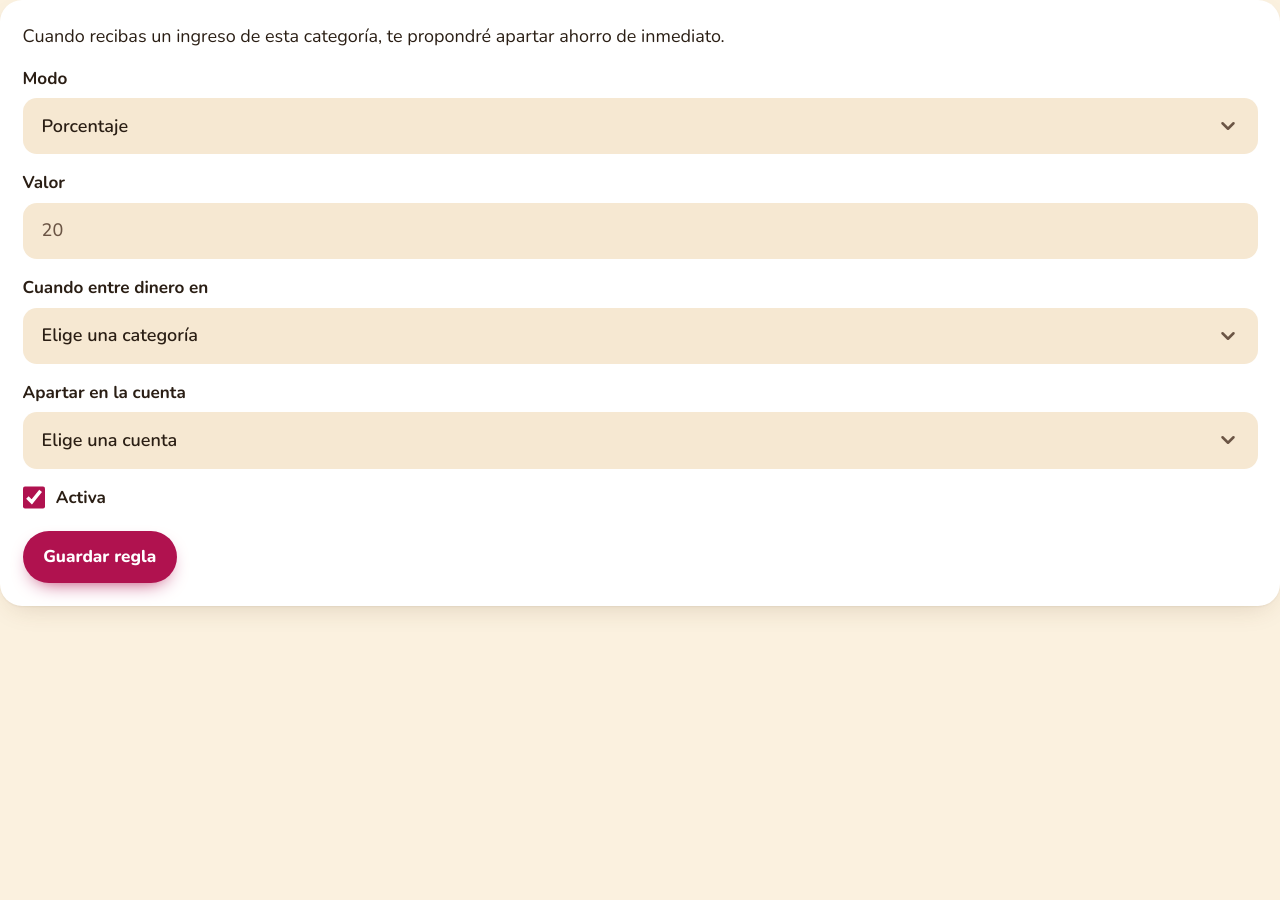
SavingsRuleForm › validates the percentage
Type "101" into the field labelled "Valor" at (640, 231), box x1=22 y1=203 x2=1258 y2=259
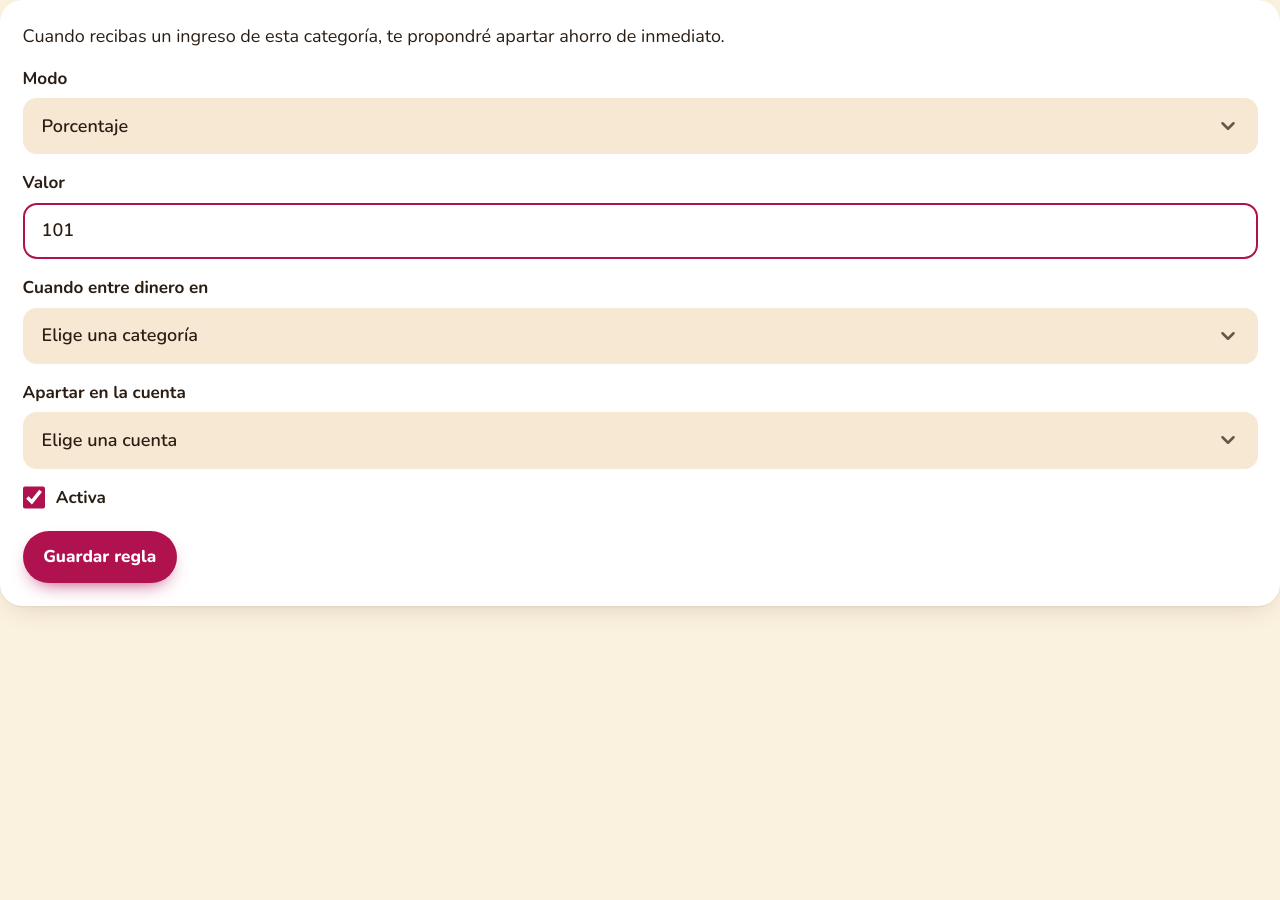
Select "Salario" in the dropdown labelled "Cuando entre dinero en" at (640, 336), box x1=22 y1=308 x2=1258 y2=364
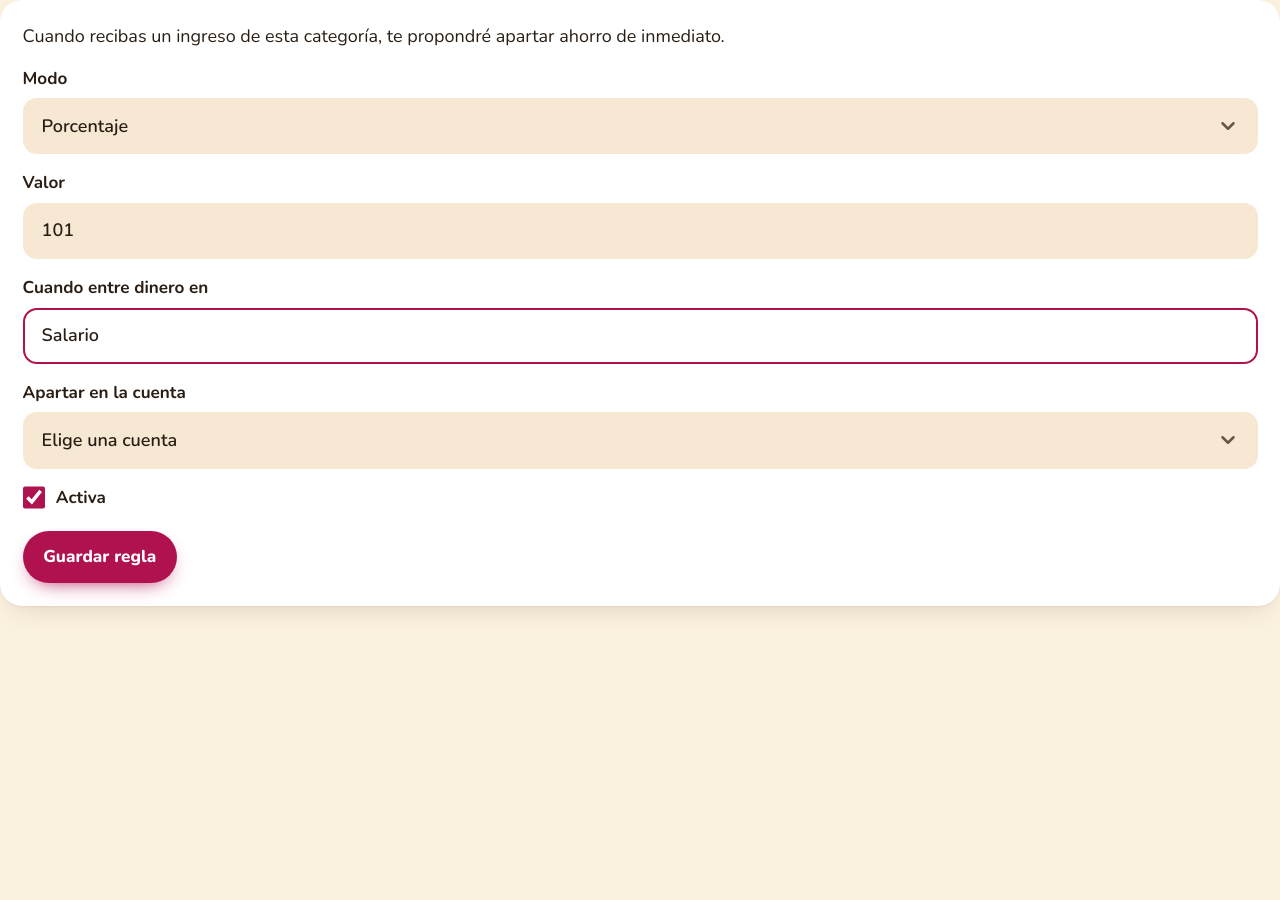
Select "Ahorro" in the dropdown labelled "Apartar en la cuenta" at (640, 440), box x1=22 y1=412 x2=1258 y2=469
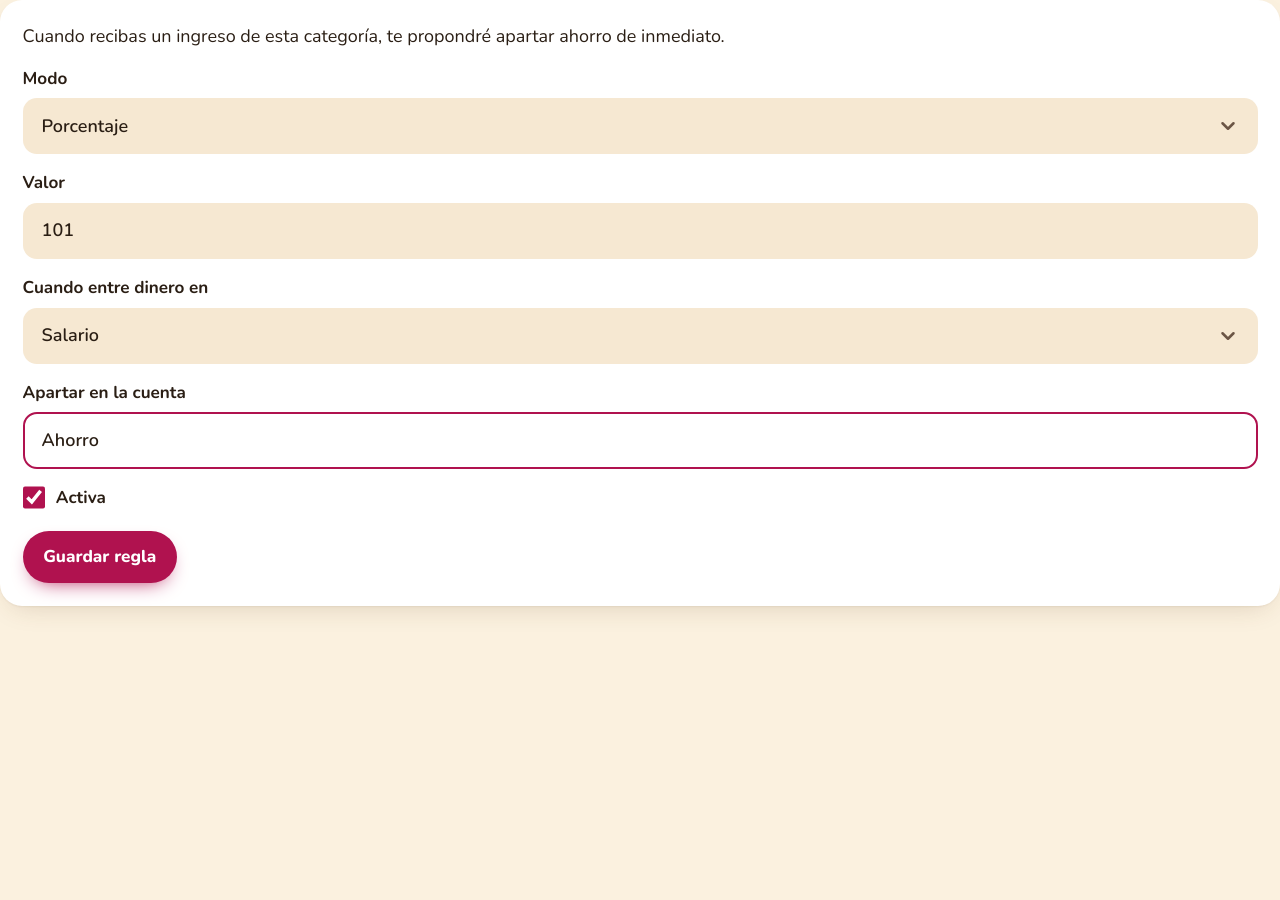
Click the button "Guardar regla" at (100, 557), box x1=22 y1=531 x2=177 y2=583
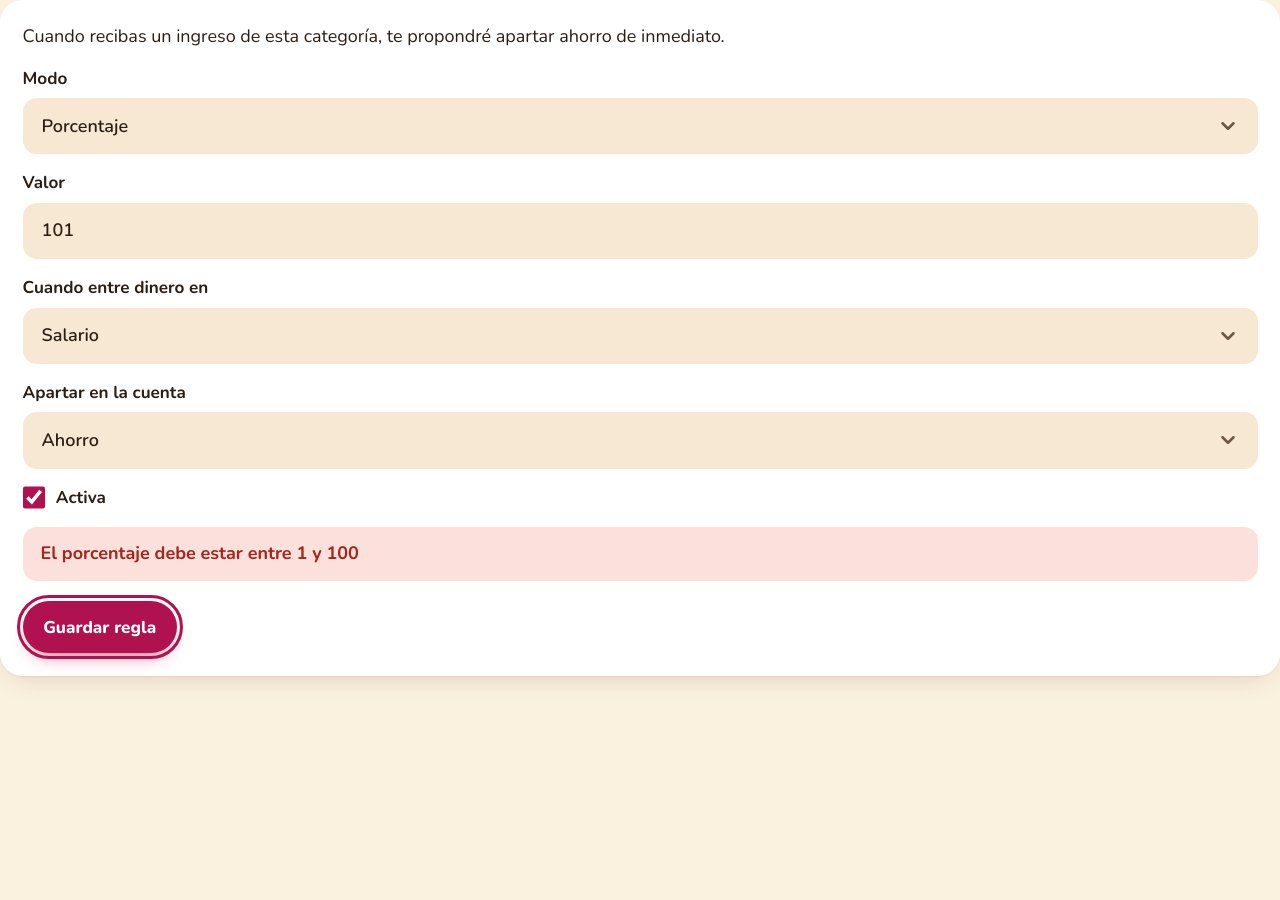
Expected: the message shows "entre 1 y 100", x1=40 y1=541 x2=359 y2=565
